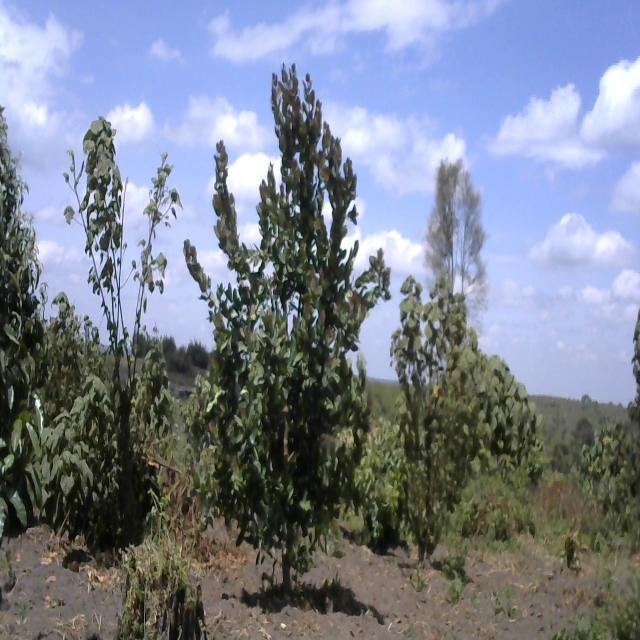other: (181, 62, 392, 617), (50, 94, 171, 553), (380, 251, 485, 608)
